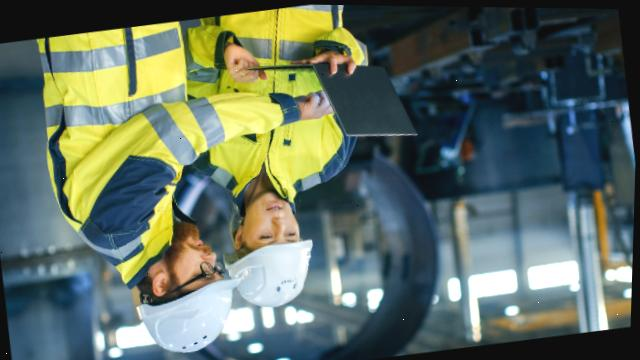helmet: (137, 273, 252, 360), (223, 240, 319, 311)
vest: (43, 20, 214, 281), (191, 2, 369, 203)
